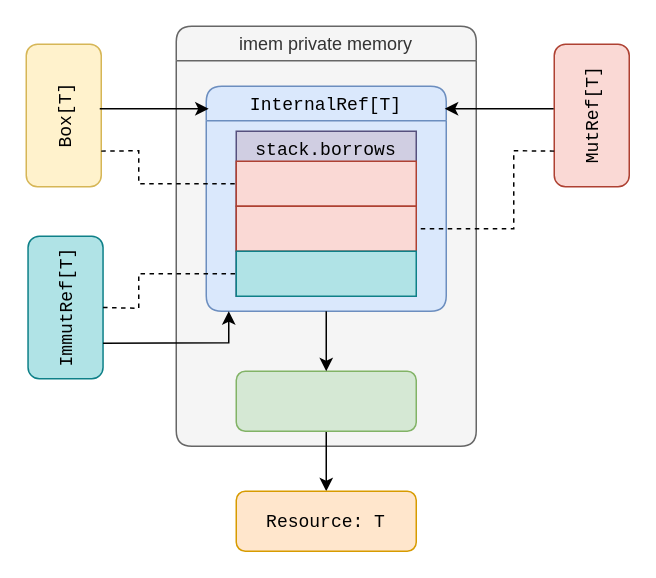
Some shapes in this 656 by 578 pixel diagram are drawn without their labels. Here are the shapes that lost their labels. From the top down, the centre of each, then its label:
the point at 325,183: Uniq(0)
the point at 325,228: Uniq(1)
the point at 325,273: Shr(2)
the point at 325,400: UnsafeRef[T]
